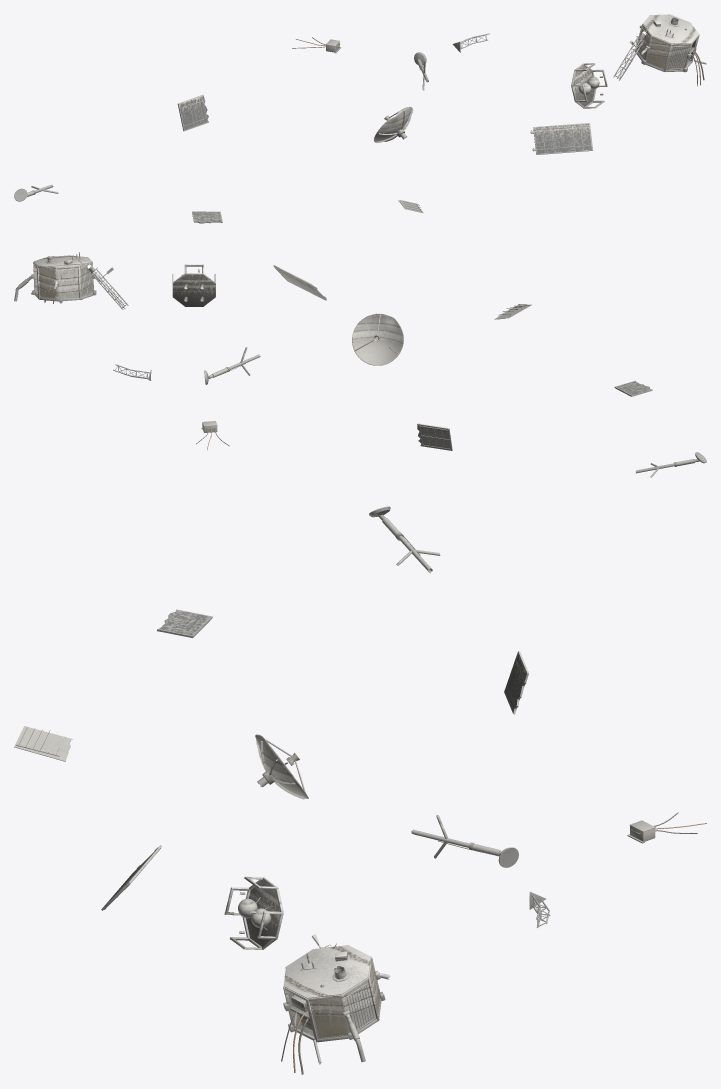
The model's file is probe_wreck.fbx.
3 renders of one model, top to bottom at view 1: azimuth 30°, elevation 25°; view 2: azimuth 150°, elevation 25°; view 3: azimuth 270°, elevation 25°, orthographic. The views are drawn at different scales.
Visible parts, largest first — view 1: wr_bus, wr_solar_A, wr_propulsion, wr_dish, wr_solar_B1, wr_mast_top, wr_solar_B2; view 2: wr_bus, wr_dish, wr_propulsion, wr_solar_B1, wr_mast_top, wr_solar_A, wr_leg_C, wr_leg_B; view 3: wr_bus, wr_propulsion, wr_dish, wr_frag_1, wr_leg_B, wr_solar_B2.
Part boxes in pixels (x1=…): wr_bus: x1=634, y1=14, x2=706, y2=86; wr_solar_A: x1=530, y1=123, x2=593, y2=154; wr_propulsion: x1=571, y1=63, x2=607, y2=108; wr_dish: x1=374, y1=106, x2=413, y2=142; wr_solar_B1: x1=177, y1=94, x2=208, y2=131; wr_mast_top: x1=613, y1=20, x2=653, y2=80; wr_solar_B2: x1=192, y1=211, x2=222, y2=223; wr_bus: x1=14, y1=252, x2=100, y2=303; wr_dish: x1=352, y1=313, x2=403, y2=365; wr_propulsion: x1=172, y1=264, x2=215, y2=306; wr_solar_B1: x1=417, y1=423, x2=452, y2=450; wr_mast_top: x1=76, y1=257, x2=128, y2=309; wr_solar_A: x1=273, y1=265, x2=326, y2=300; wr_leg_C: x1=635, y1=452, x2=706, y2=477; wr_leg_B: x1=204, y1=347, x2=260, y2=384; wr_bus: x1=281, y1=945, x2=390, y2=1074; wr_propulsion: x1=224, y1=876, x2=283, y2=949; wr_dish: x1=255, y1=734, x2=308, y2=799; wr_frag_1: x1=14, y1=726, x2=72, y2=761; wr_leg_B: x1=411, y1=815, x2=518, y2=867; wr_solar_B2: x1=157, y1=609, x2=212, y2=637.
Size of the model in its own units: 18.91 by 1.7 by 10.44.
Materials: 4 (2 with a texture image).
